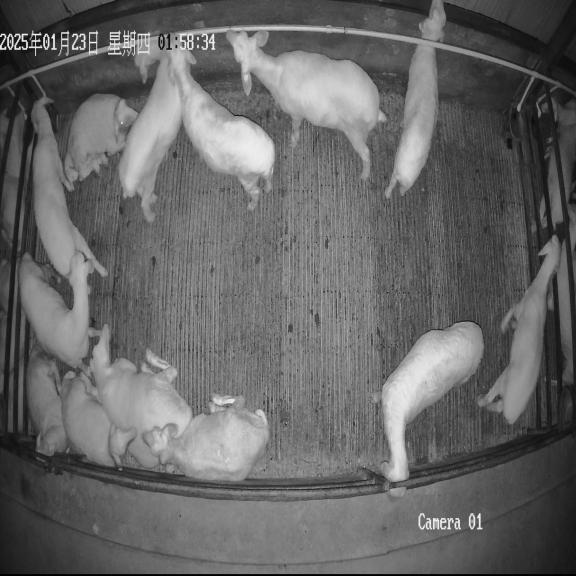drinking: (31, 98, 107, 278)
lying: (90, 324, 192, 468), (144, 395, 269, 481), (63, 94, 138, 191), (61, 371, 135, 467), (26, 346, 69, 455)
stand: (226, 30, 386, 179), (371, 321, 484, 497), (163, 33, 275, 210), (477, 236, 559, 424), (385, 0, 446, 198), (118, 34, 182, 222), (19, 252, 92, 369)
